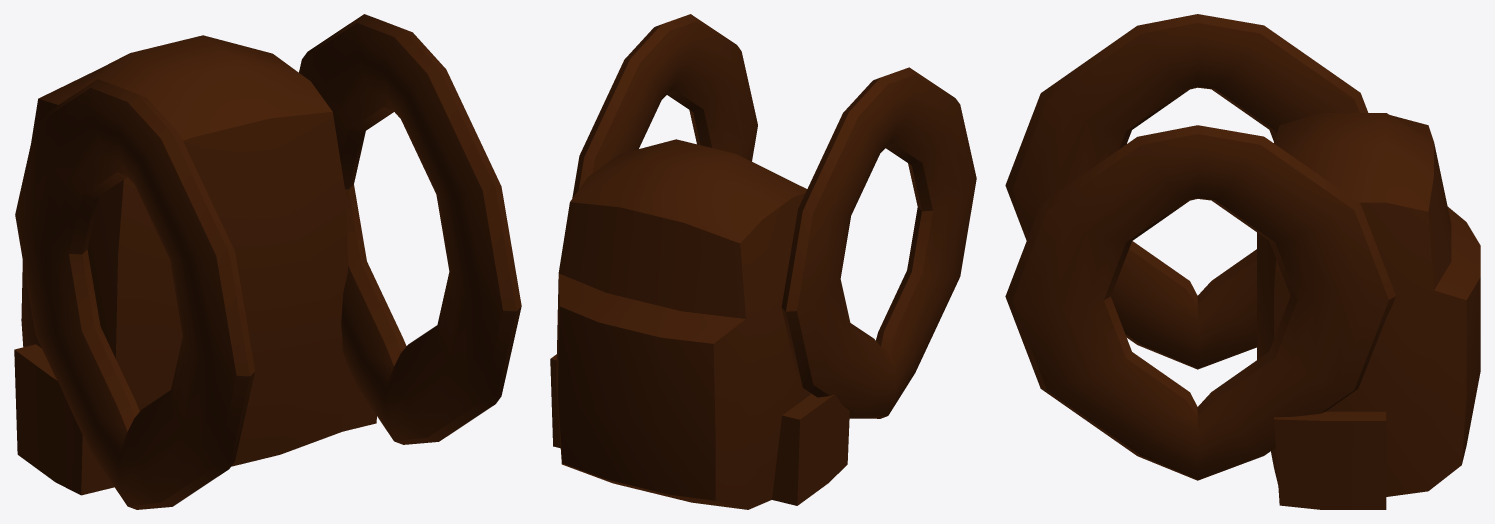
The model's file is Mochila.fbx.
The picture shows the model from 3 angles, left to right: view 1: azimuth 30°, elevation 25°; view 2: azimuth 150°, elevation 25°; view 3: azimuth 270°, elevation 25°; orthographic projection. The views are drawn at different scales.
Visible parts, largest first — view 1: Mochila; view 2: Mochila; view 3: Mochila.
Boxes of the visible parts, x1,y1,x2,y2 form: Mochila: (14,14,521,509); Mochila: (550,14,976,509); Mochila: (1005,14,1480,509).
Size of the model in its own units: 75.22 by 105 by 116.
